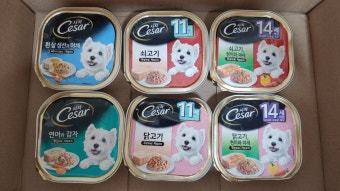paper: (30, 92, 125, 183), (127, 92, 217, 184), (212, 92, 305, 181), (34, 5, 124, 94), (123, 9, 210, 93), (211, 10, 297, 93)
